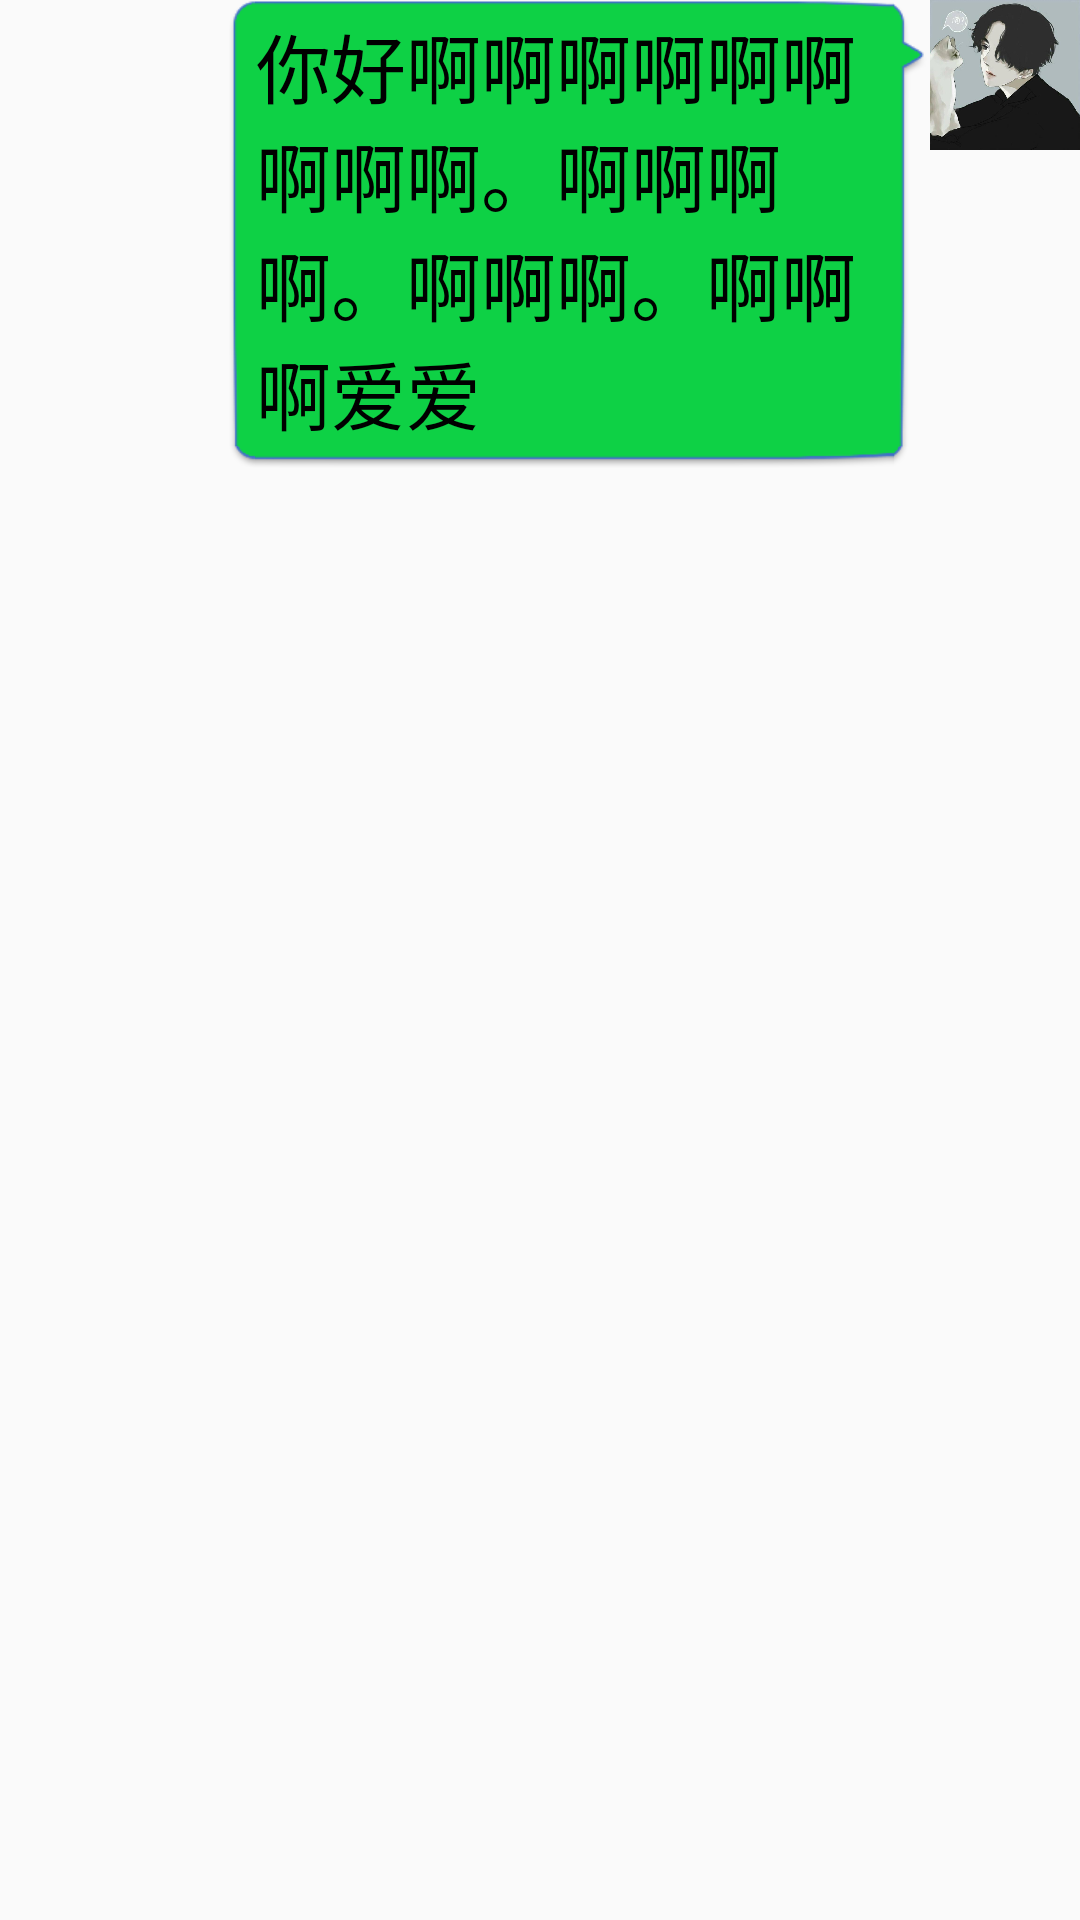

Named icons in this screenshot (1080*1920) and their bounding boxes, (x1, y1, x2, y2):
user: (930, 0, 1080, 150)
